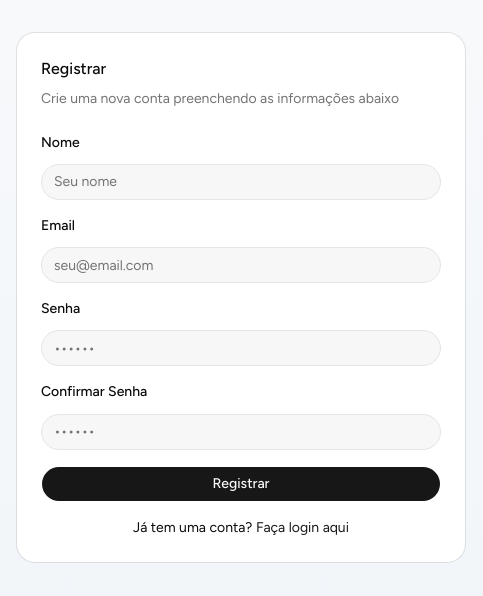
Scenario: RegisterPage › shows validation error when passwords do not match
Type "João Silva" into the field with id "form-rhf-input-name" at (241, 182), box [41,164,441,200]
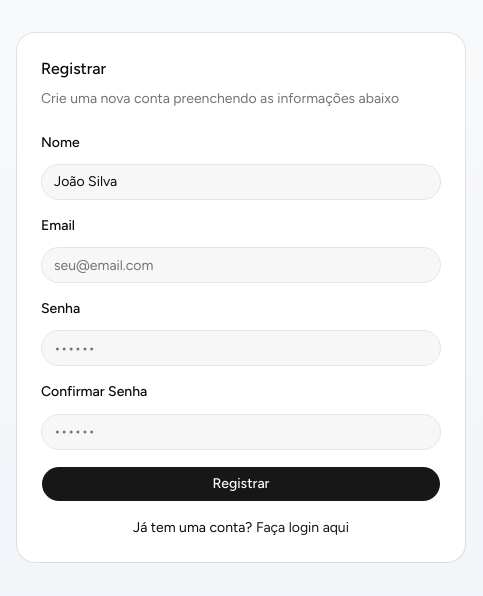
Type "joao@example.com" into the field with id "form-rhf-input-email" at (241, 265), box [41,247,441,283]
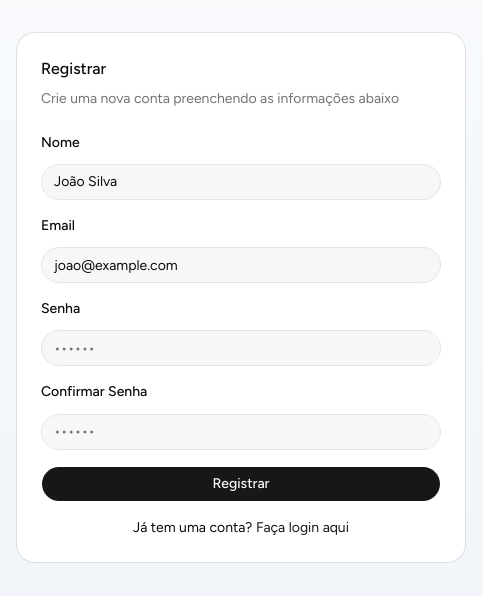
Type "senha12345" into the password field with id "form-rhf-input-password" at (241, 348), box [41,330,441,366]
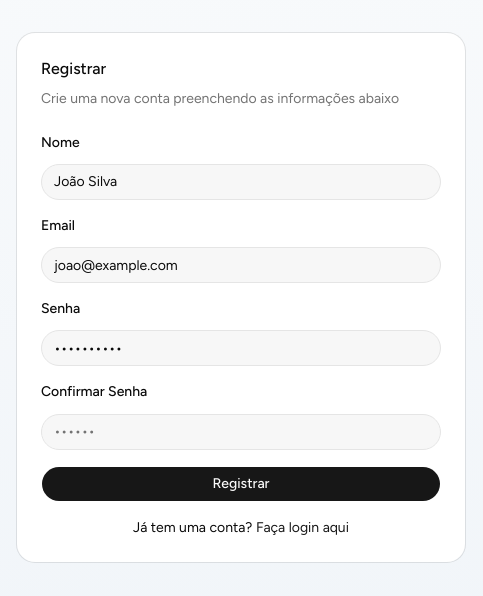
Type "outraSenha" into the password field with id "form-rhf-input-password-confirmation" at (241, 432), box [41,414,441,450]
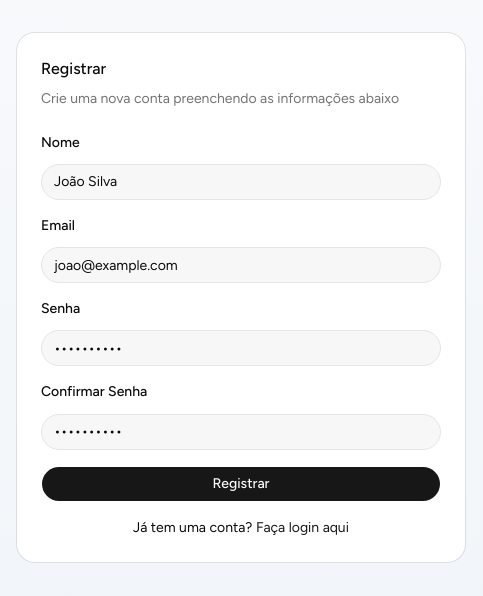
Click the button "Registrar" at (241, 484), box [41,466,441,502]
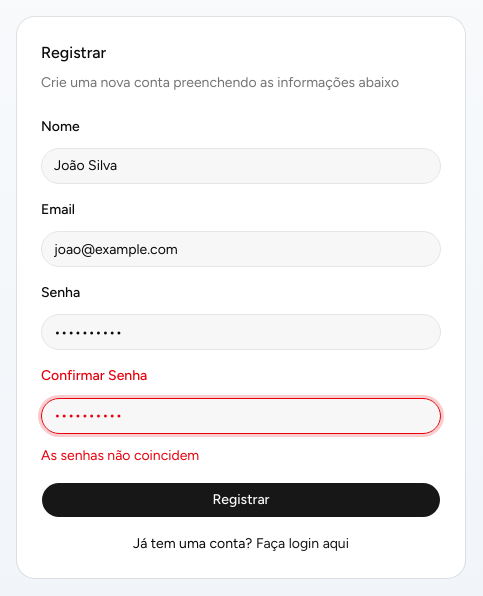
Expected: the text "As senhas não coincidem" is shown, [41,446,199,464]
